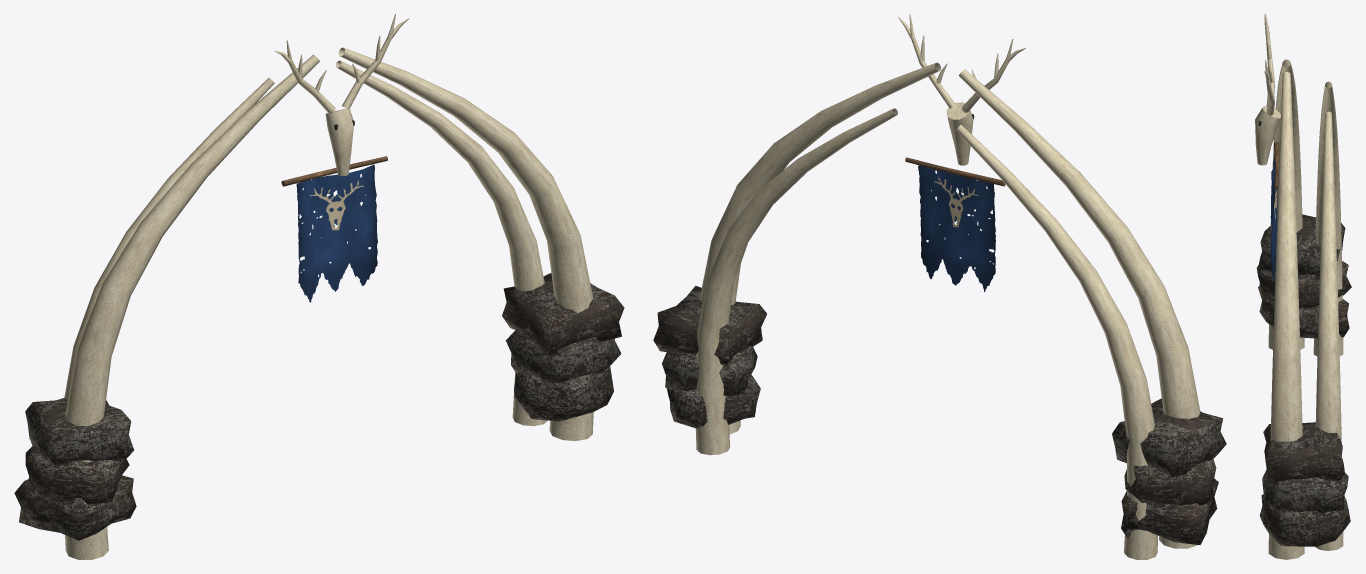
File: SM_Bld_North_Gate.gltf
3 views of the same model, side by side, from view 1: azimuth 30°, elevation 25°; view 2: azimuth 150°, elevation 25°; view 3: azimuth 270°, elevation 25° (orthographic). The views are drawn at different scales.
Parts seen in each view (by area): view 1: SM_Bld_North_Gate; view 2: SM_Bld_North_Gate; view 3: SM_Bld_North_Gate.
Part boxes in pixels (box(x1,y1,x2,y2)): SM_Bld_North_Gate: box(14, 14, 624, 559); SM_Bld_North_Gate: box(653, 14, 1226, 559); SM_Bld_North_Gate: box(1255, 14, 1351, 559).
Bounding box in the file's own units: 6.93 × 5.43 × 1.16.
5 materials, 4 textured.
